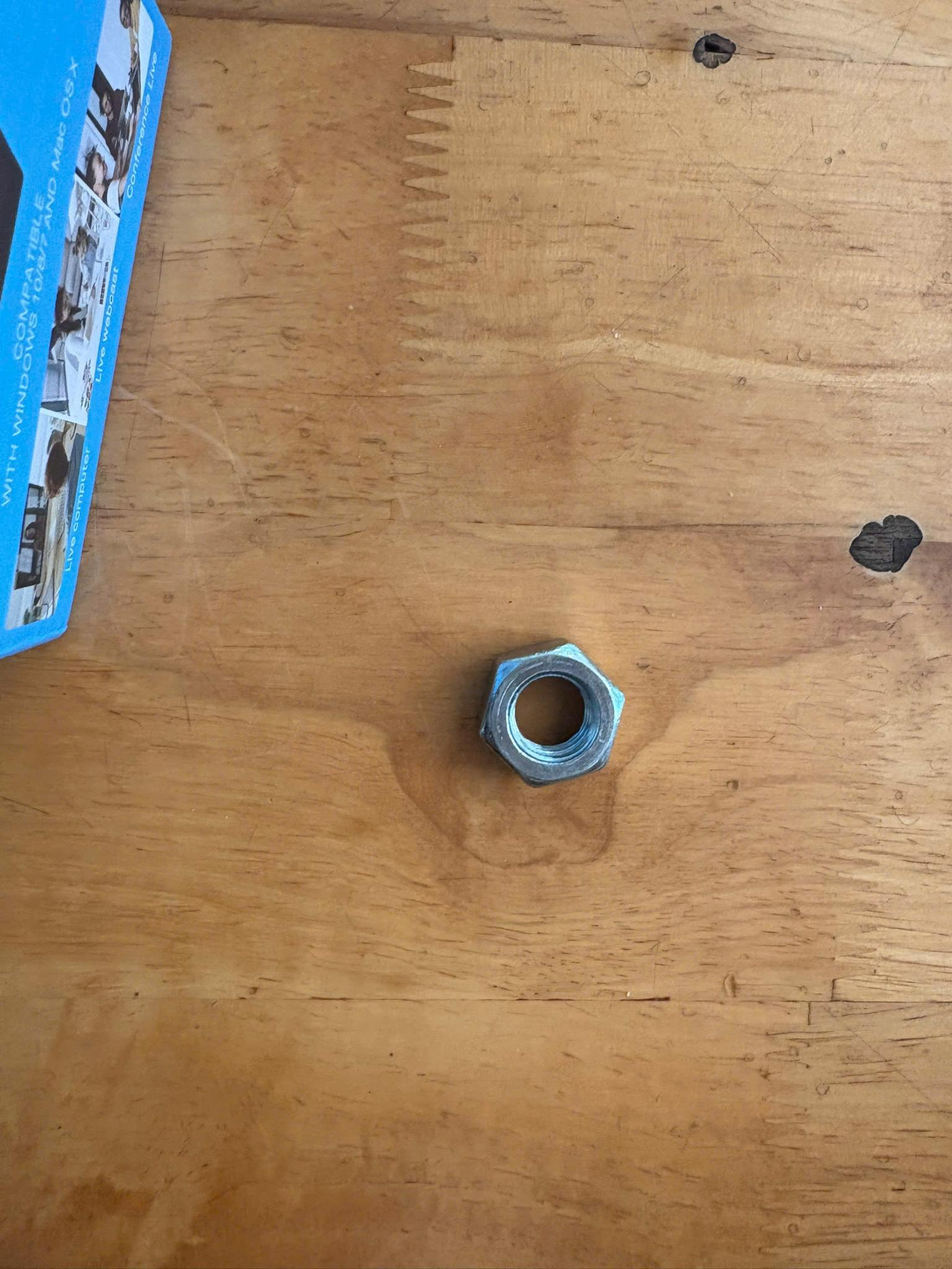nut: (459, 618, 641, 787)
